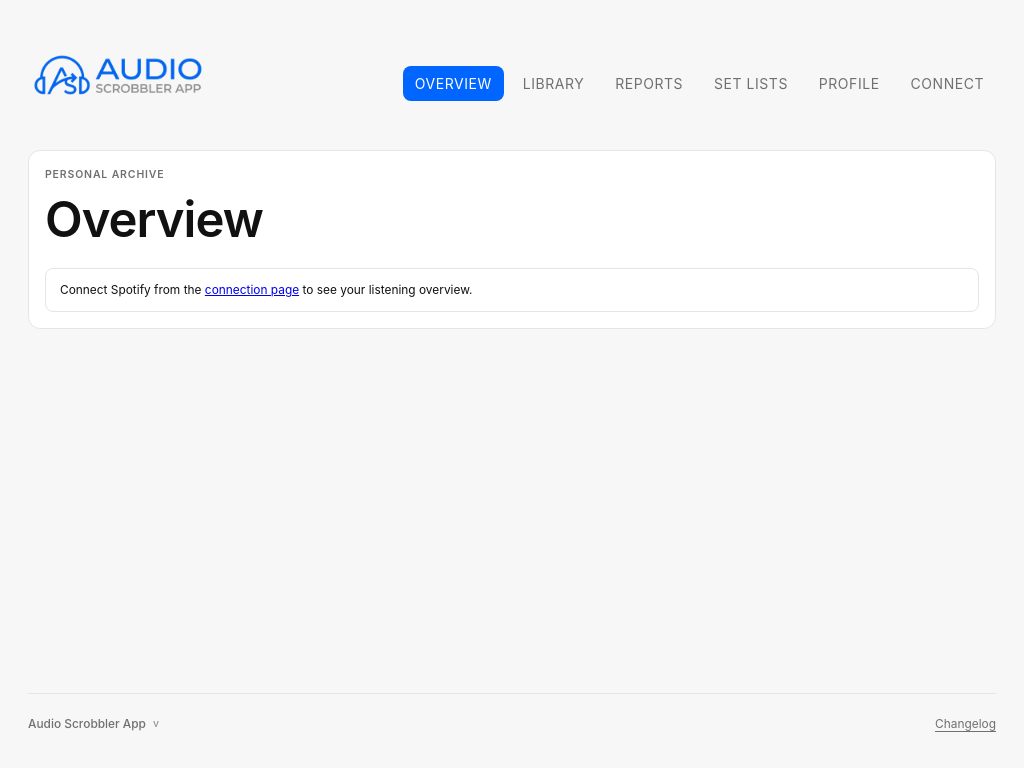
Navigation › keeps the header visible after navigating to another page
The width and height of the screenshot is (1024, 768).
Click the link "Library" at [554, 84], box x1=523 y1=75 x2=584 y2=92
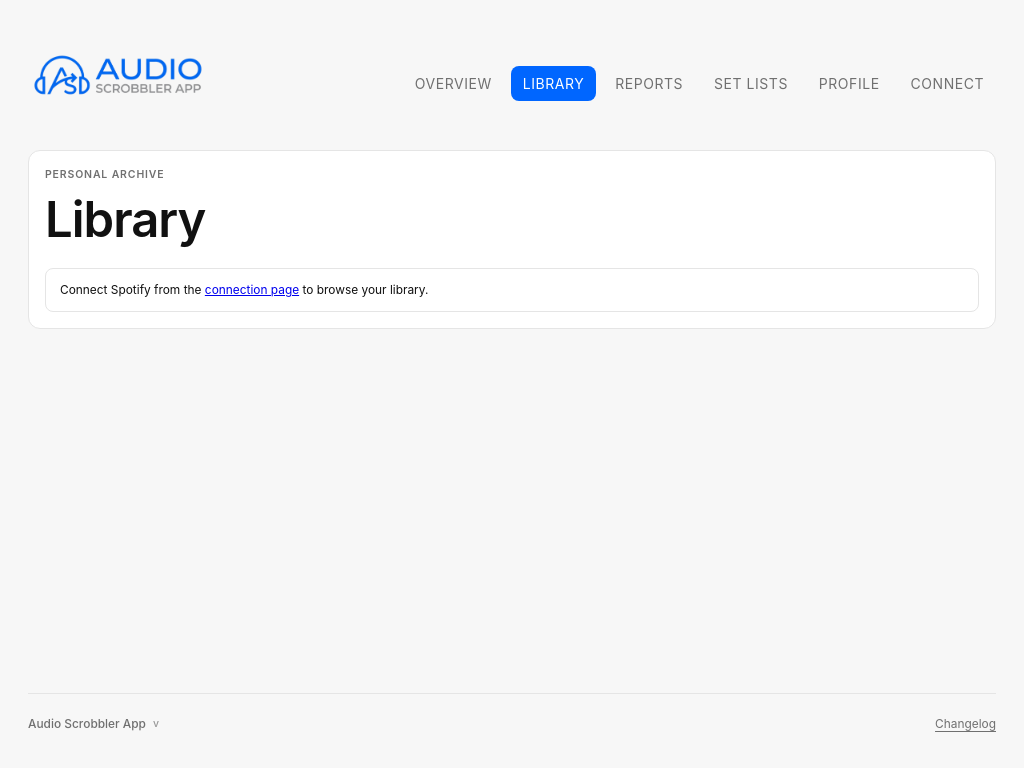
Check: the navigation bar named "Primary navigation" is shown, box x1=403 y1=66 x2=996 y2=101
Check: the heading "Library" is shown, box x1=45 y1=190 x2=205 y2=249
